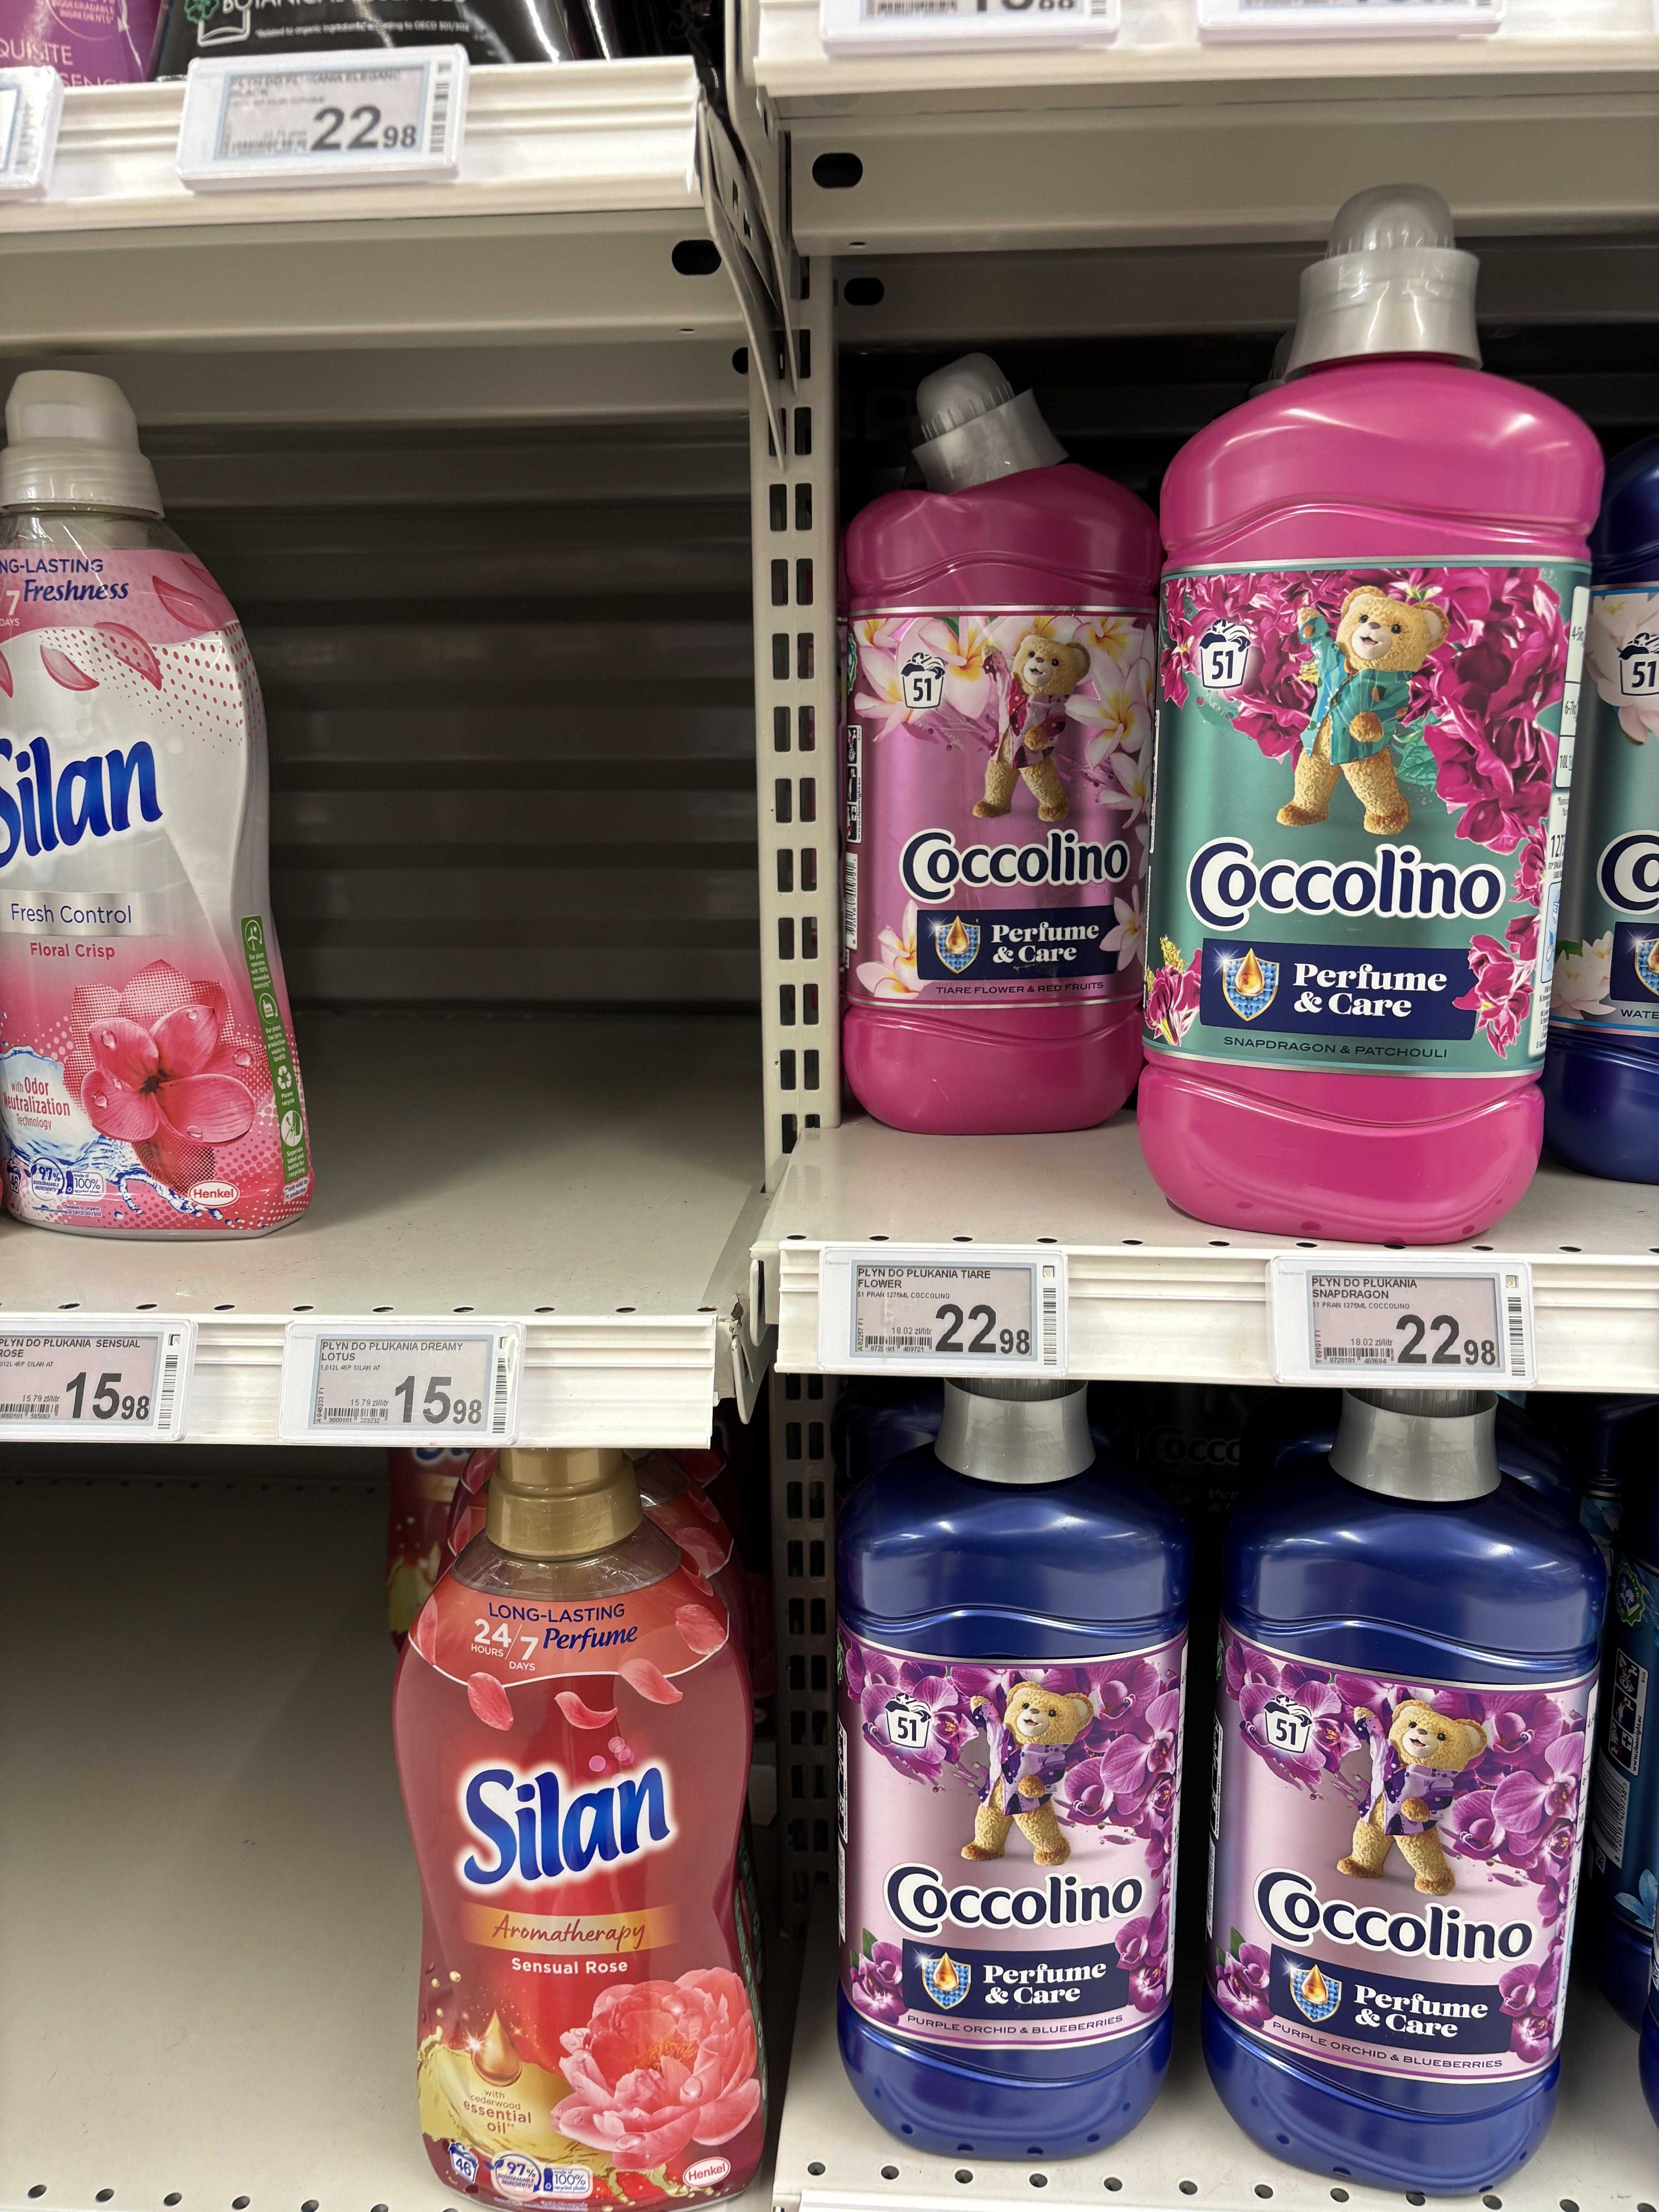cocolino: (1150, 413, 1603, 1198), (821, 1515, 1220, 2118), (840, 481, 1169, 1176), (1215, 1524, 1567, 2128)
